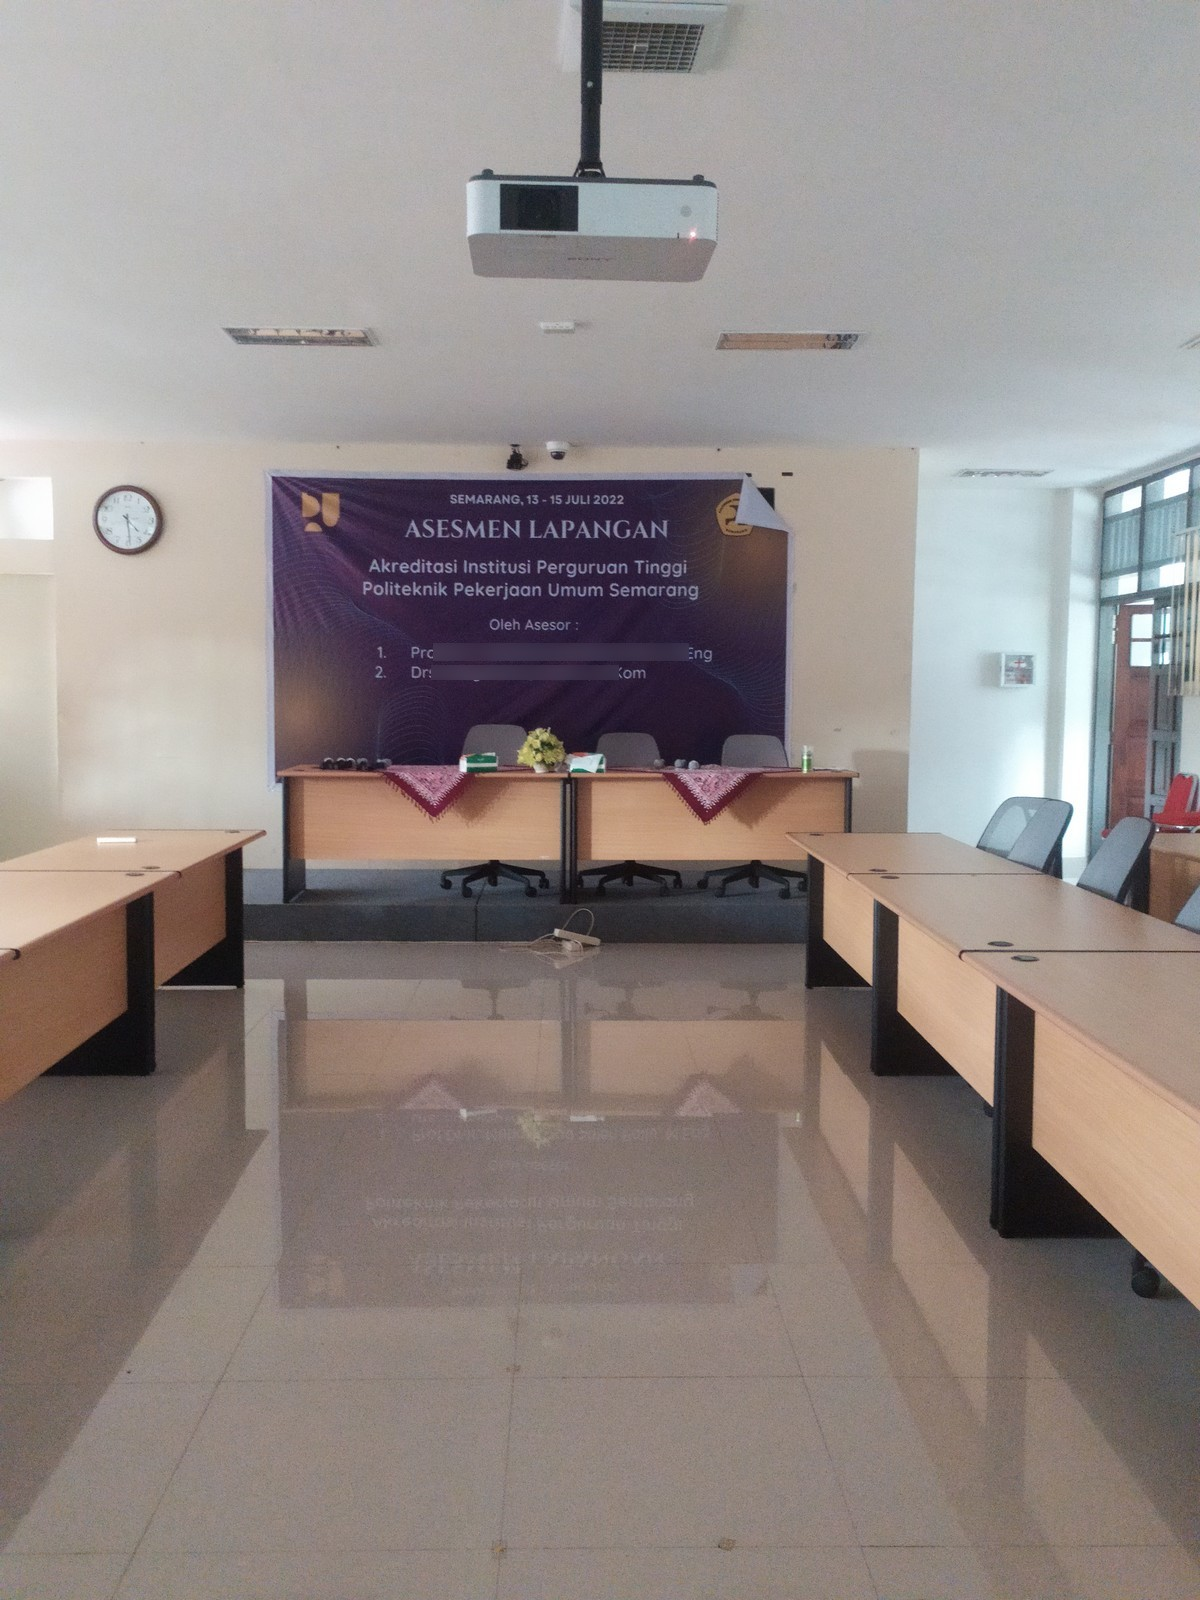concrete column: (1039, 479, 1100, 867)
